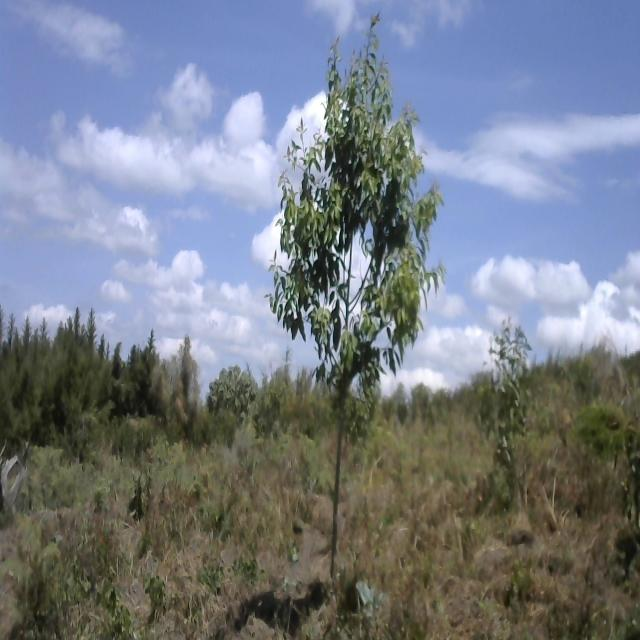Croton machrostychus: (208, 358, 261, 437)
Olea welwitchii: (273, 5, 445, 563), (479, 308, 538, 492)
